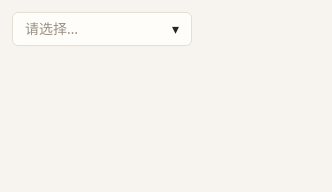
Test: Select › 点击打开，选项有 role=option，选择触发 onChange 并回填
Later steps or results of the test are not shown.
Click the button with aria-label "x" at (102, 29), box [12, 12, 192, 46]
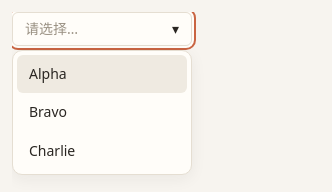
Check: the list is shown, box [12, 50, 192, 175]
